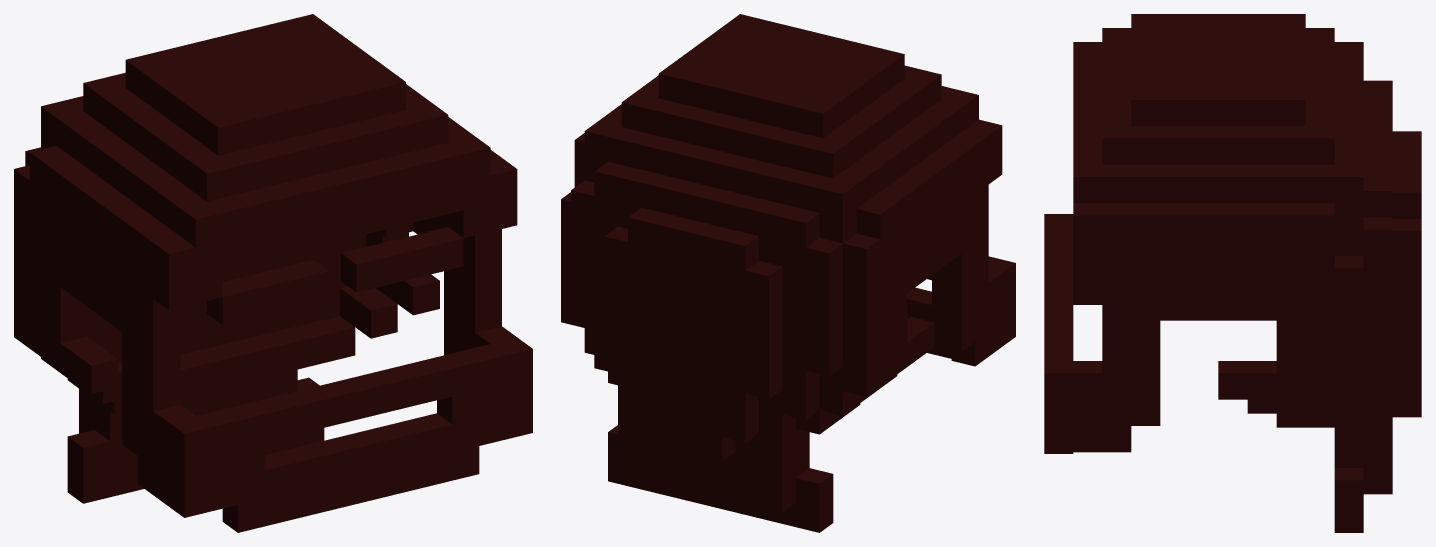
File: Union_3.fbx
3 renders of one model, left to right at view 1: azimuth 30°, elevation 25°; view 2: azimuth 150°, elevation 25°; view 3: azimuth 270°, elevation 25°, orthographic. The views are drawn at different scales.
Parts seen in each view (by area): view 1: Union_3; view 2: Union_3; view 3: Union_3.
Part boxes in pixels (bbox=[...]): Union_3: bbox=[14, 14, 532, 532]; Union_3: bbox=[561, 14, 1015, 532]; Union_3: bbox=[1044, 14, 1421, 532].
Size of the model in its own units: 13 by 16 by 13.
1 material, 1 textured.
